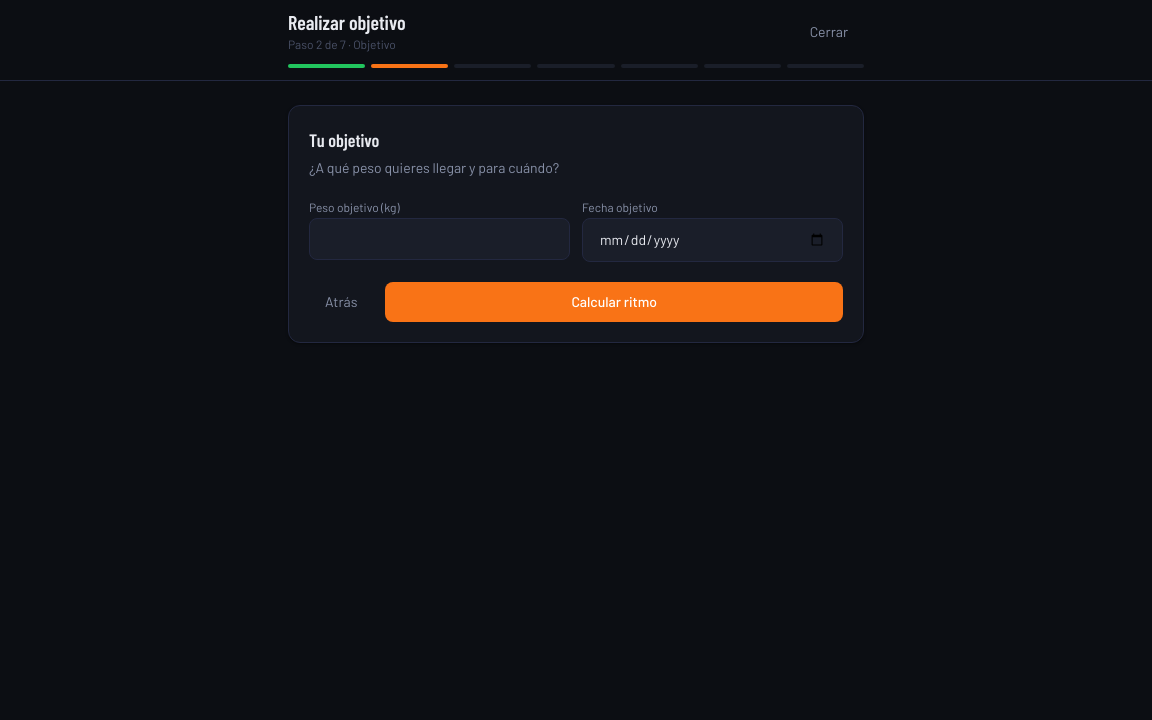
it: GoalStep validation (Req 3.1, 1.4) › shows the Spanish error and preserves the target weight/date
The width and height of the screenshot is (1152, 720).
Expected: the text "Peso objetivo (kg)" is shown, [309,200,400,214]
Type "75" into the number field at (440, 239), box [309,218,570,260]
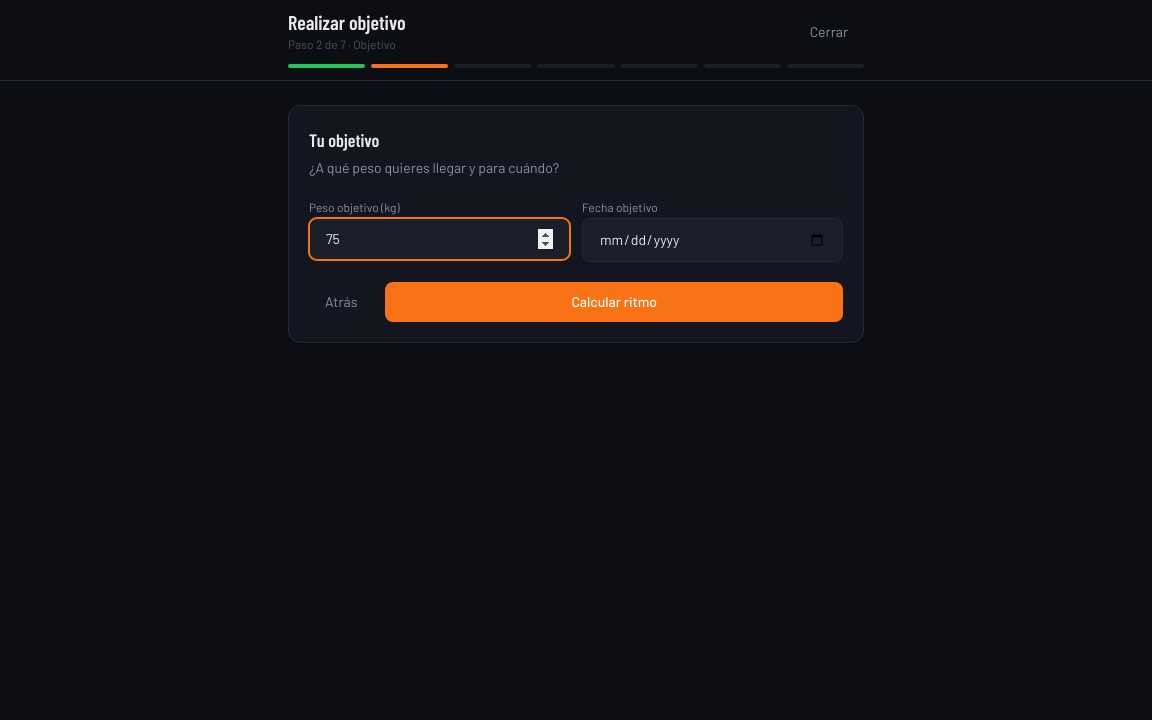
Type "2020-01-01" into the date field at (712, 240), box [582,218,843,262]
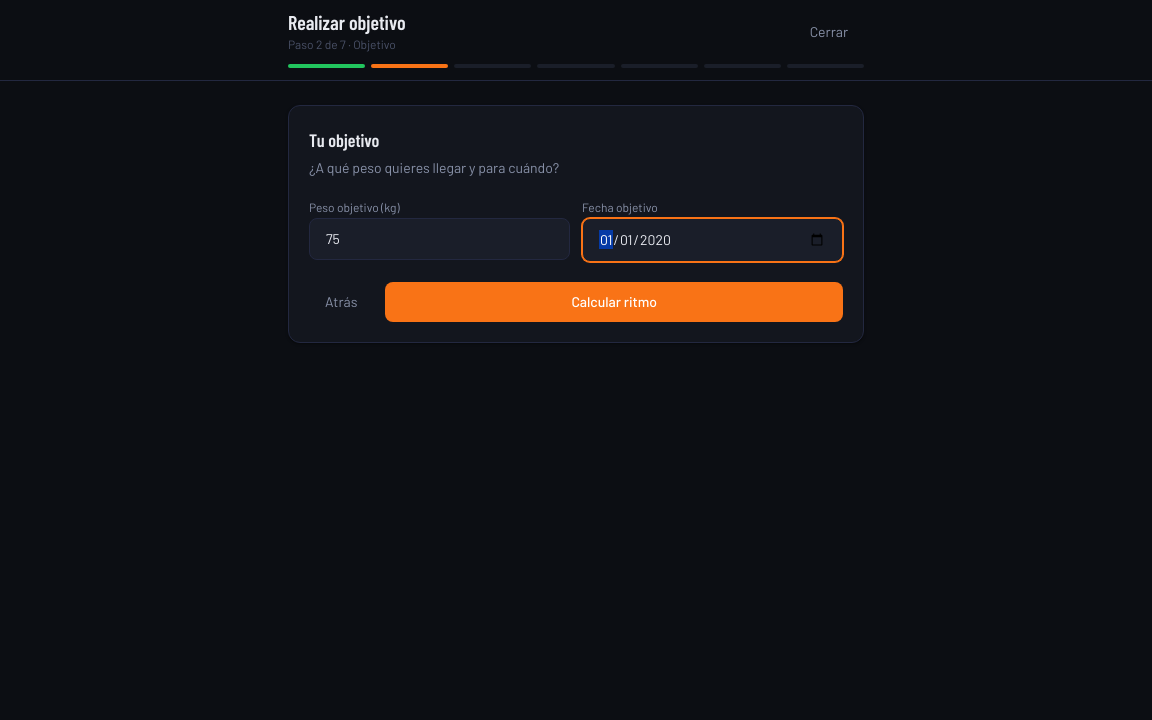
Click the button "Calcular ritmo" at (614, 302), box [385,282,843,322]
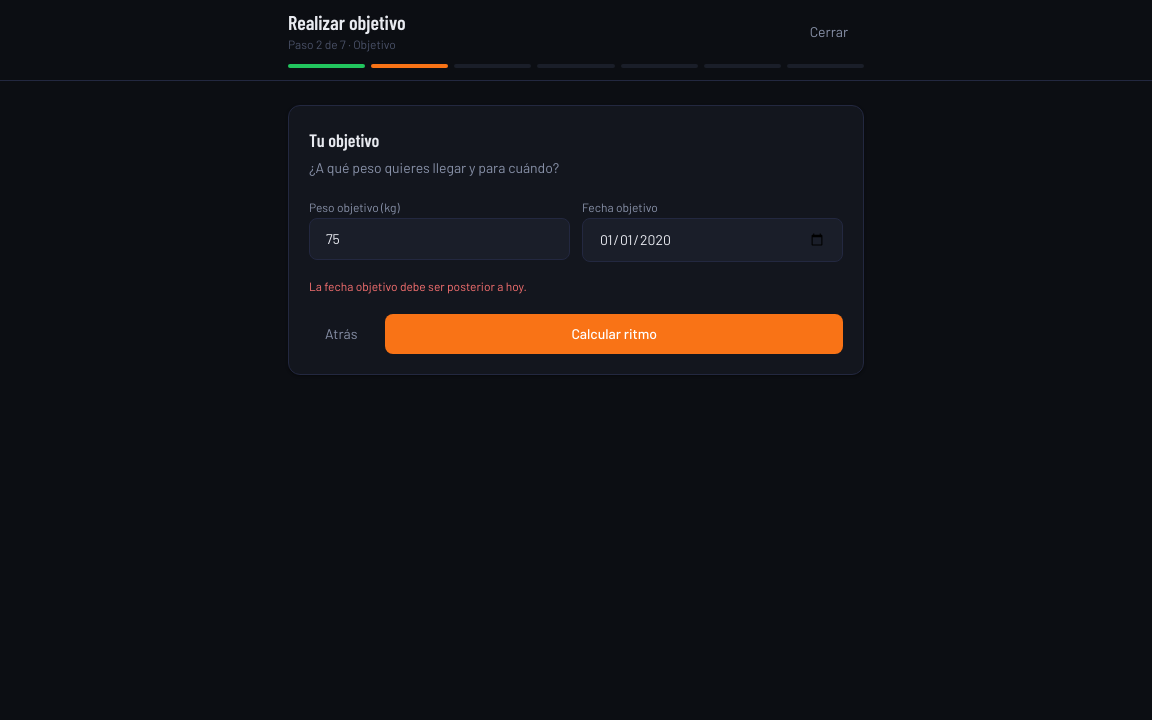
Result: the text "La fecha objetivo debe ser posterior a hoy." is shown at [309,279,527,293]
